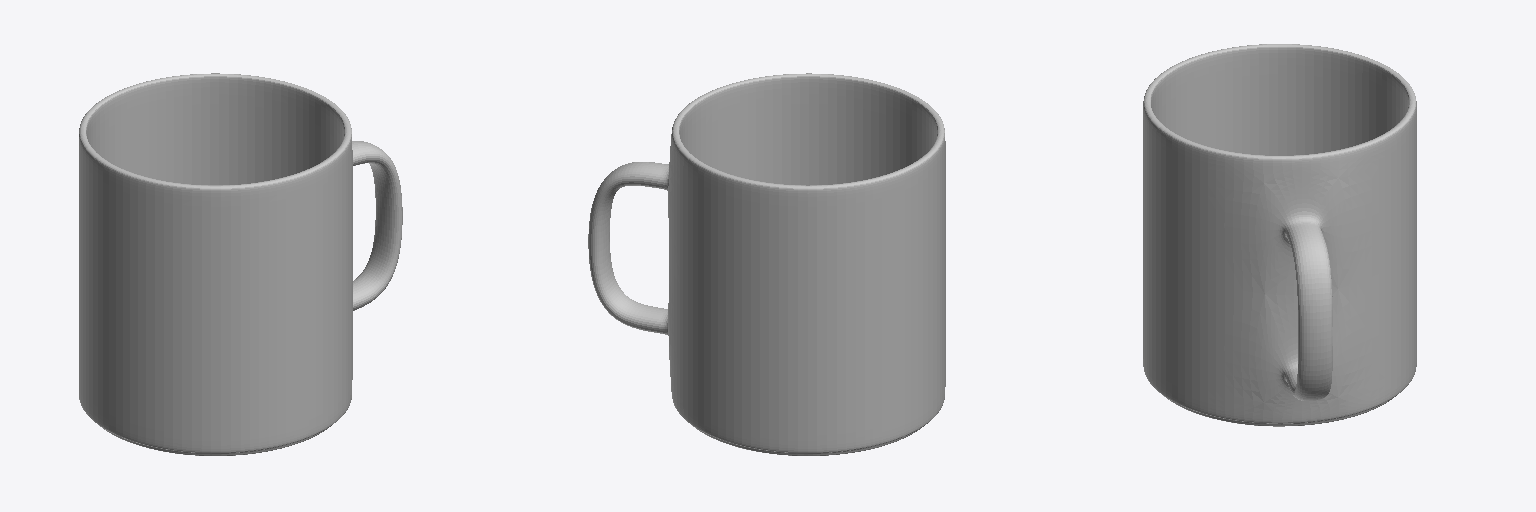
Rendered from Glass_3.obj.
3 views of the same model, side by side, from view 1: azimuth 30°, elevation 25°; view 2: azimuth 150°, elevation 25°; view 3: azimuth 270°, elevation 25° (orthographic).
Parts seen in each view (by area): view 1: Glass_3_Cylinder.002; view 2: Glass_3_Cylinder.002; view 3: Glass_3_Cylinder.002.
Part boxes in pixels (left/top/right/bottom): Glass_3_Cylinder.002: left=79, top=73, right=402, bottom=455; Glass_3_Cylinder.002: left=588, top=73, right=945, bottom=455; Glass_3_Cylinder.002: left=1143, top=44, right=1416, bottom=426.
Size of the model in its own units: 0.1248 by 0.1017 by 0.093.